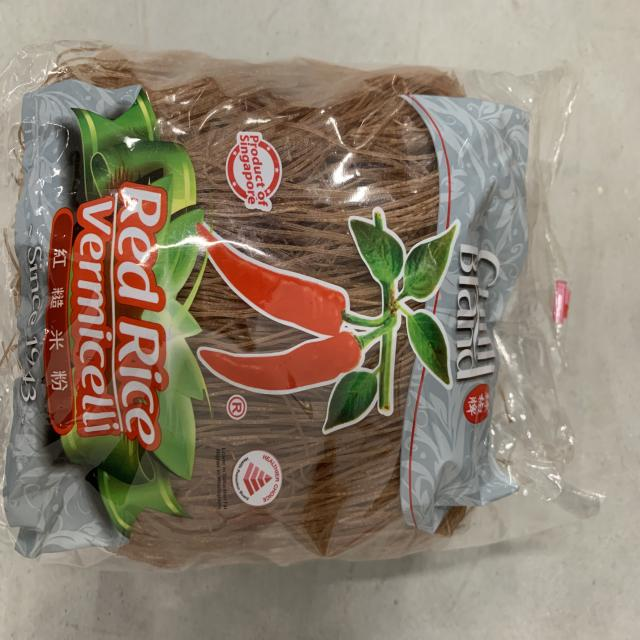object_name: (20, 64, 549, 528)
